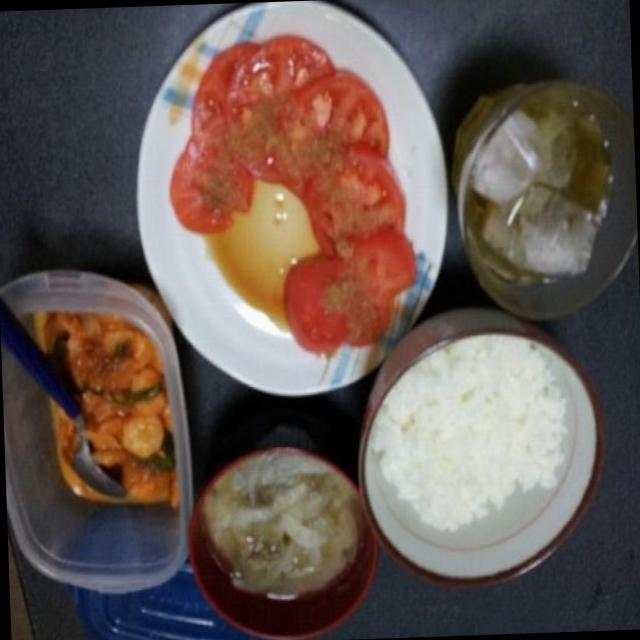Rice: (372, 342, 570, 538)
